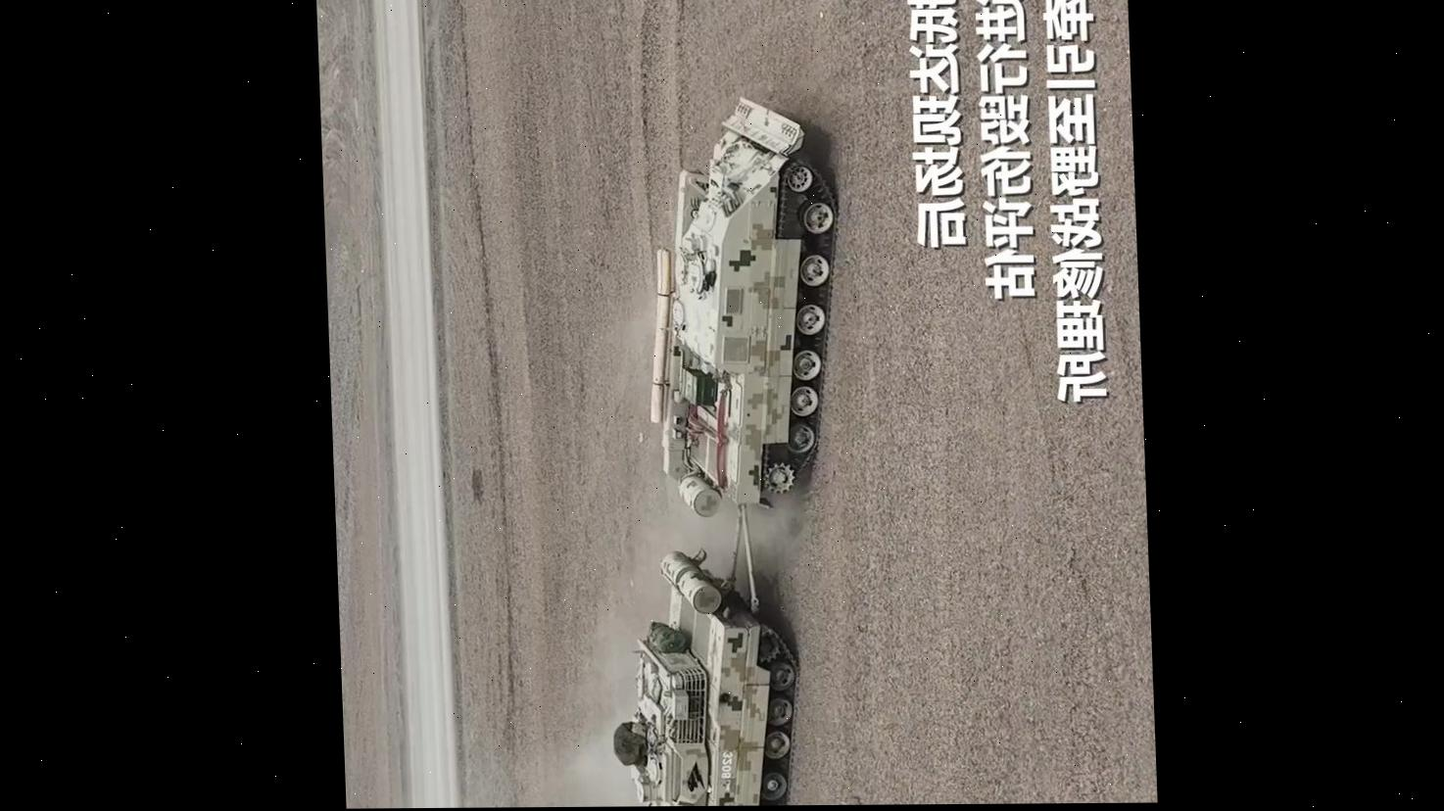armored_car: (640, 95, 848, 519)
tank: (603, 543, 805, 807)
